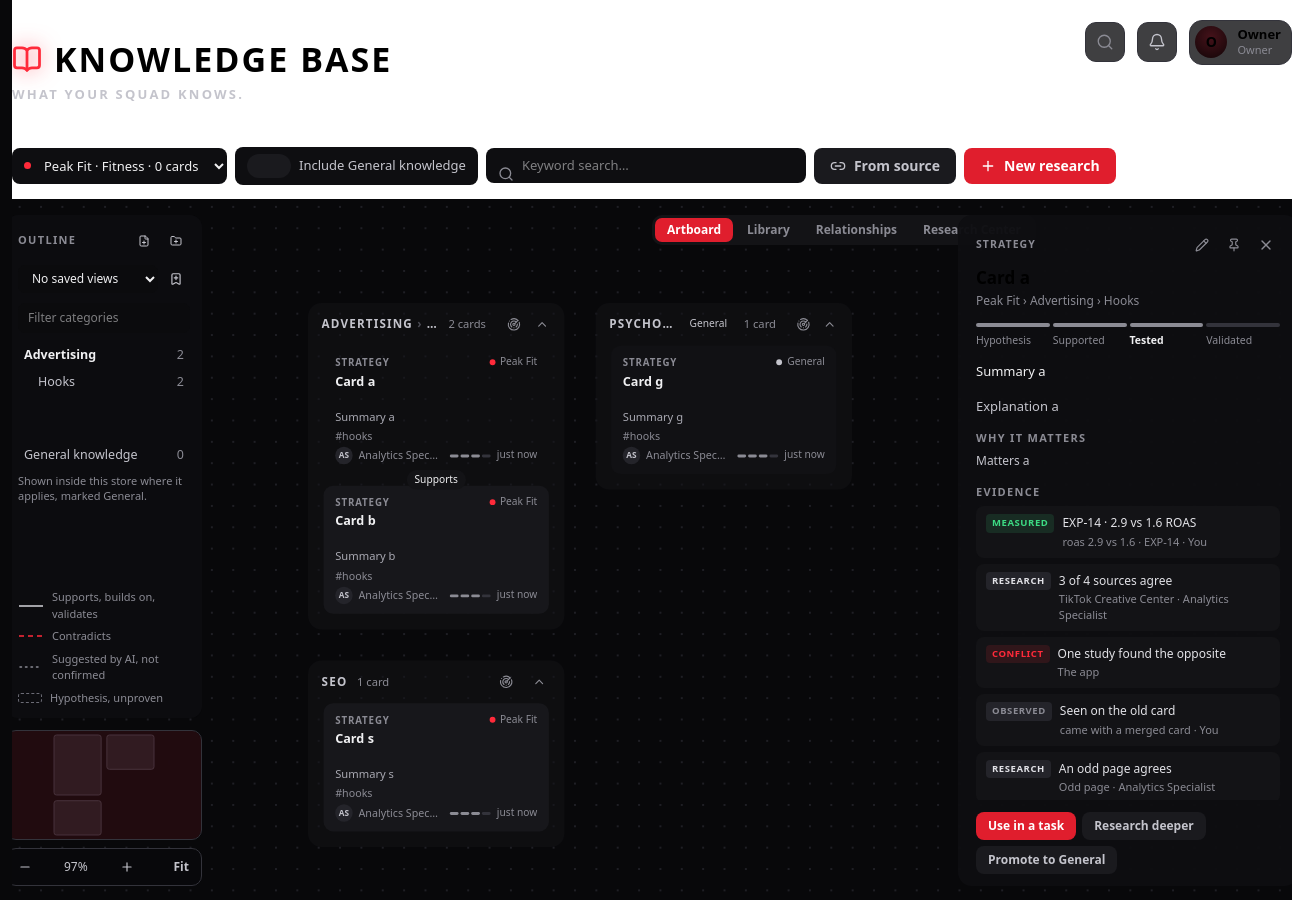
Test: Knowledge › details panel › closes from its button and stays out of the way (inert) once closed
The image size is (1292, 900).
Click the button named "Close details" at (1266, 244), box x1=1252 y1=230 x2=1280 y2=258
(page scrolled)
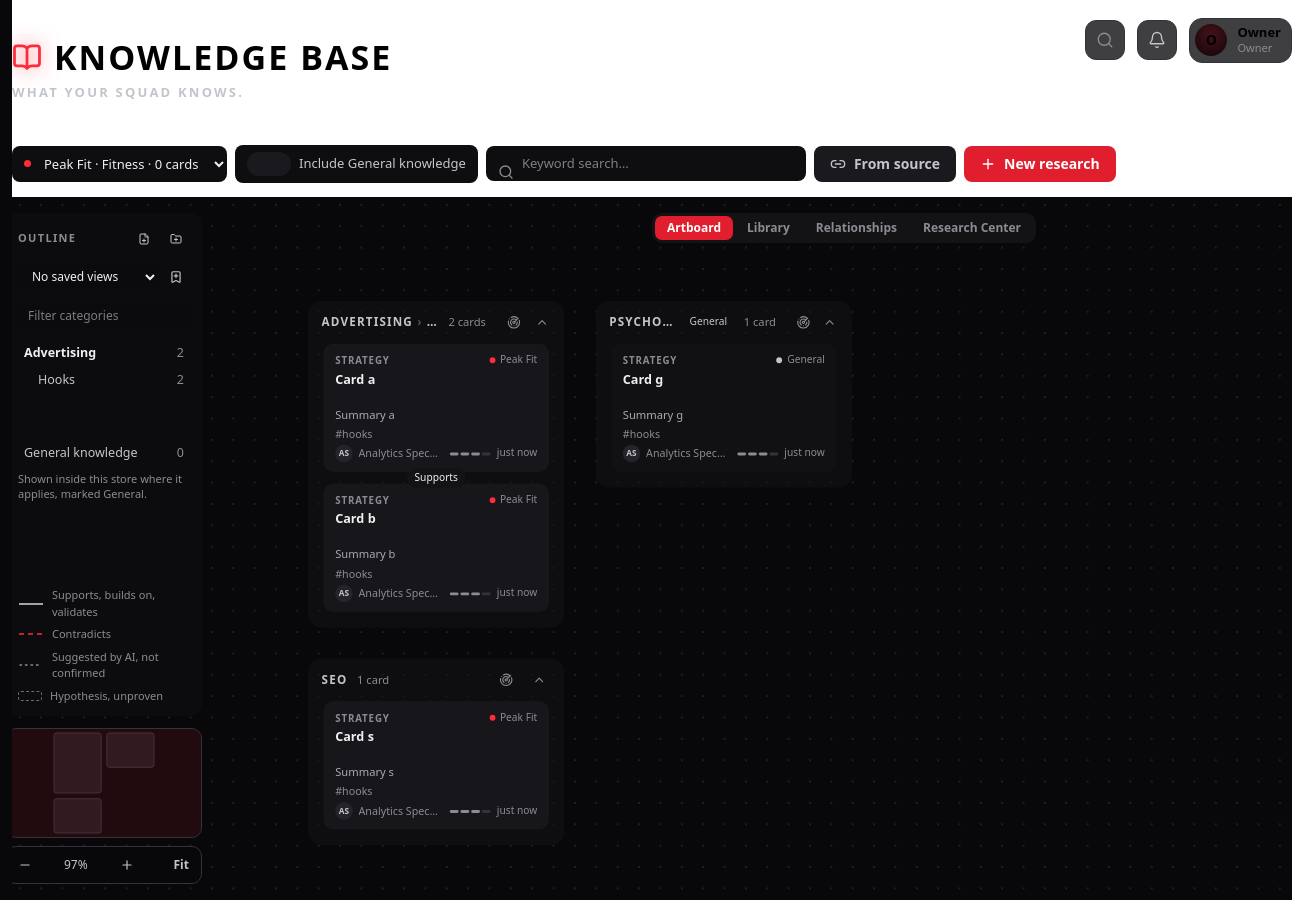
Result: the text with test id "where" reads "/knowledge?ws=peak" at x1=12 y1=869 x2=173 y2=891
